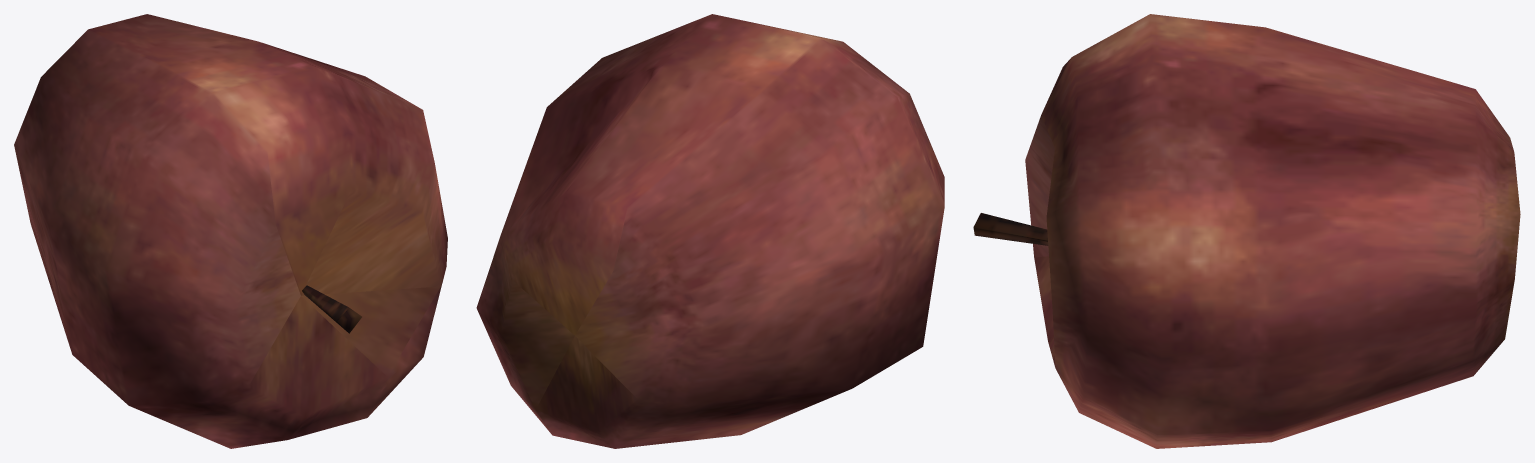
The model's file is apple.obj.
3 views of the same model, side by side, from view 1: azimuth 30°, elevation 25°; view 2: azimuth 150°, elevation 25°; view 3: azimuth 270°, elevation 25° (orthographic). The views are drawn at different scales.
Parts seen in each view (by area): view 1: apple01:0; view 2: apple01:0; view 3: apple01:0.
Part boxes in pixels (left/top/right/bottom): apple01:0: left=14, top=14, right=447, bottom=448; apple01:0: left=476, top=14, right=944, bottom=448; apple01:0: left=973, top=14, right=1520, bottom=448.
Bounding box in the file's own units: 9.52 × 9.31 × 12.35.
